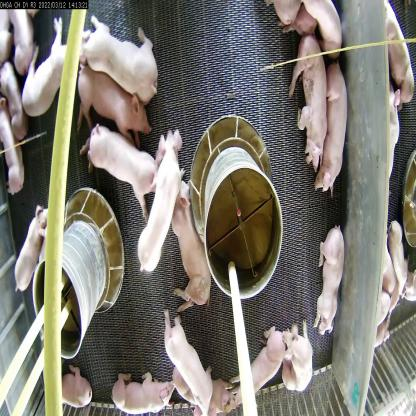Pig: (77, 15, 168, 116), (86, 113, 160, 210), (76, 60, 153, 152), (137, 130, 184, 277), (164, 168, 212, 310), (21, 18, 80, 128), (220, 329, 290, 401), (290, 32, 330, 156), (322, 56, 358, 187), (161, 314, 209, 407), (10, 194, 54, 294), (106, 368, 176, 415), (312, 226, 344, 328), (48, 360, 104, 415), (0, 96, 28, 202), (284, 327, 318, 410)
